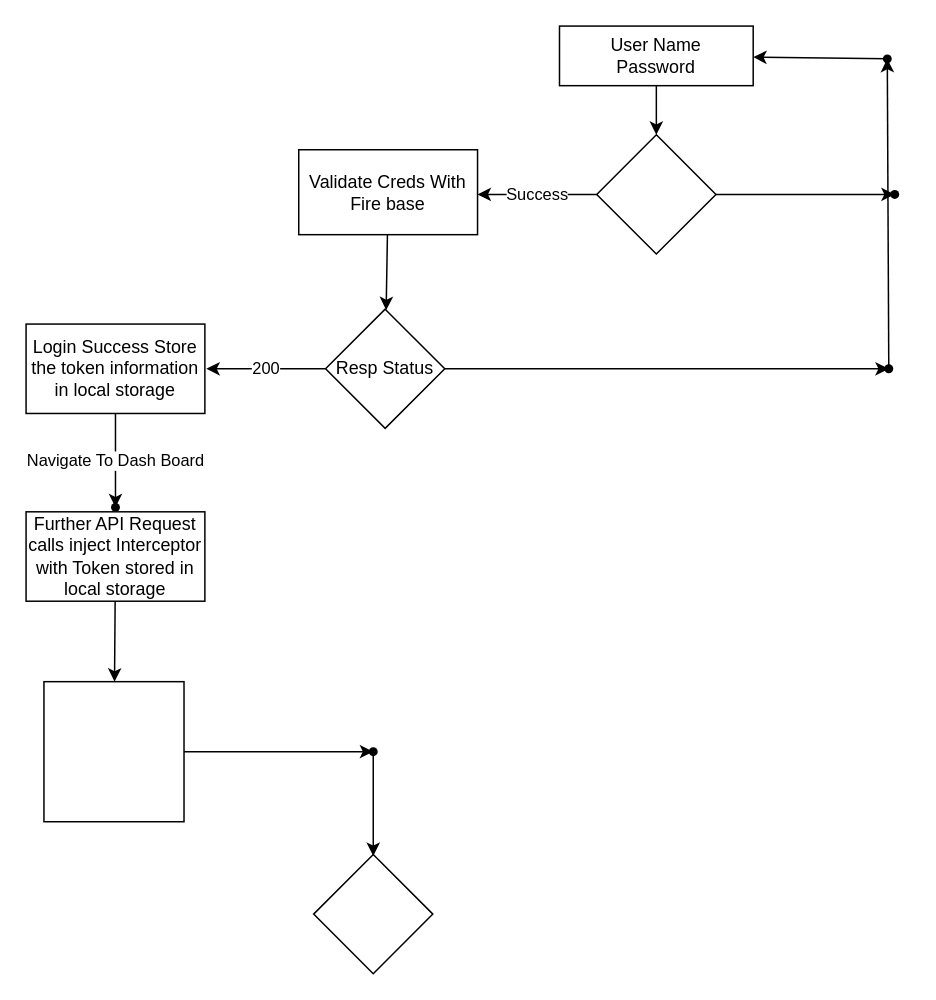
The diagram is 936 pixels wide and 1000 high, and some of its shapes have lost their labels. Here are the shapes that lost their labels. From the top down, the centre of each, then its label:
pixel 655 193: Validation
pixel 113 751: Implements HTTPInterceptor Intercept() pass params with auth key with Token
pixel 372 913: Is Resp Received
